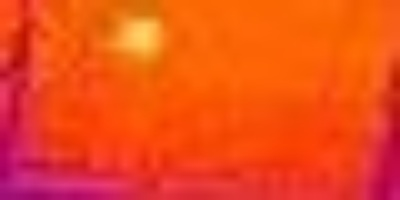Hotspot: (117, 12, 162, 50)
